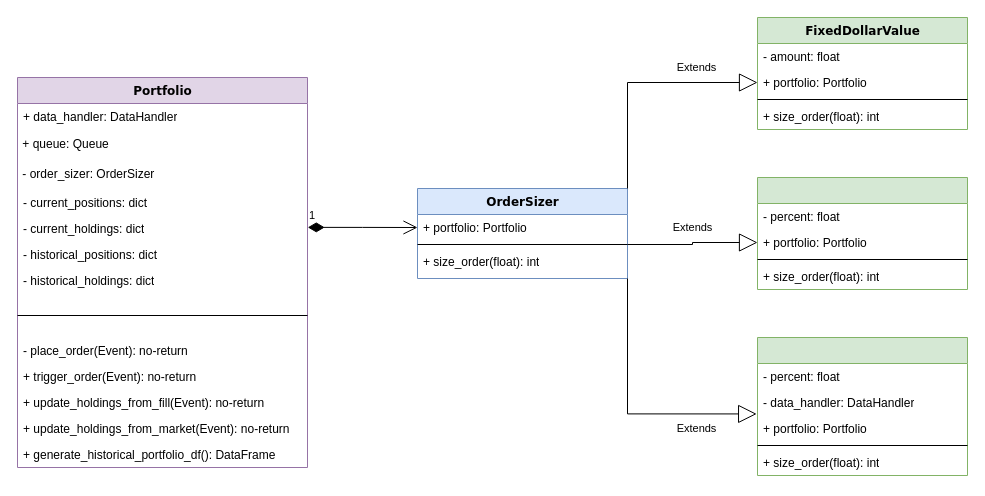
This 985x496 diagram has some shape labels left out. Each missing label, with the box of its shape:
KelleyCriterion: (756, 336, 968, 476)
PercentPortfolioValue: (756, 176, 968, 290)
